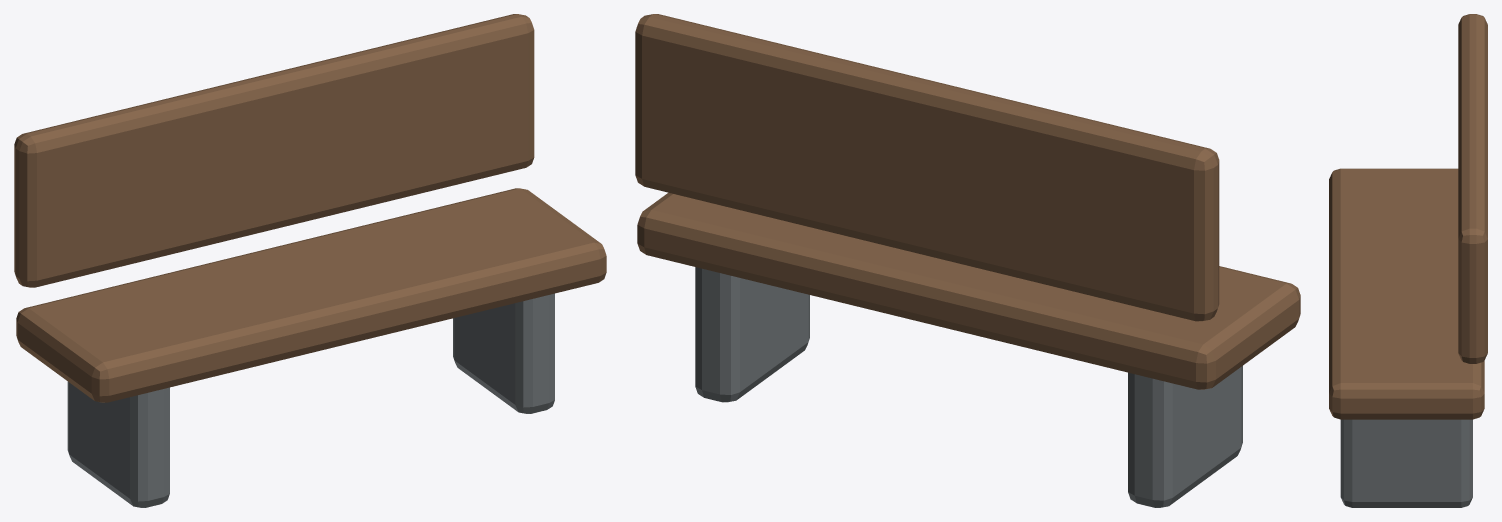
File: bench.glb
3 views of the same model, side by side, from view 1: azimuth 30°, elevation 25°; view 2: azimuth 150°, elevation 25°; view 3: azimuth 270°, elevation 25° (orthographic). The views are drawn at different scales.
Visible parts, largest first — view 1: Geometry_Wood, Geometry_Stone; view 2: Geometry_Wood, Geometry_Stone; view 3: Geometry_Wood, Geometry_Stone.
Part boxes in pixels (box(x1,y1,x2,y2)): Geometry_Wood: box(14, 14, 606, 402); Geometry_Stone: box(67, 293, 554, 507); Geometry_Wood: box(635, 14, 1300, 389); Geometry_Stone: box(695, 267, 1242, 507); Geometry_Wood: box(1329, 14, 1487, 419); Geometry_Stone: box(1340, 419, 1472, 507).
Bounding box in the file's own units: 1.6 × 0.995 × 0.48.
